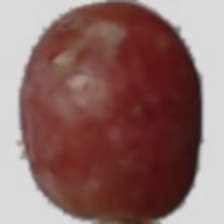grapes: (54, 12, 204, 171)
